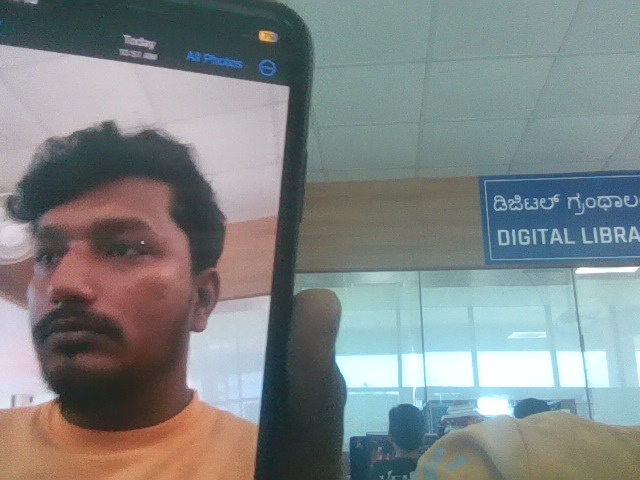fake: (2, 93, 227, 412)
